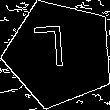L_S: (41, 27, 77, 80)
